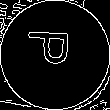P_E: (29, 35, 81, 75)
